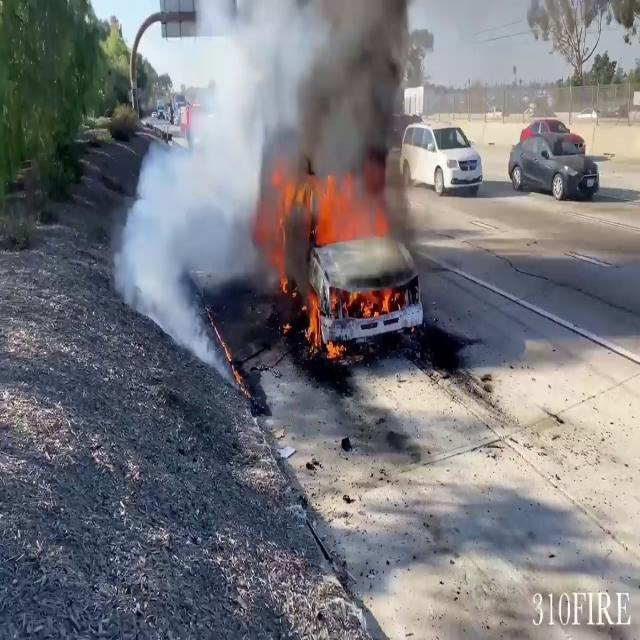Fire: (261, 156, 403, 338)
Smoke: (112, 0, 426, 359)
